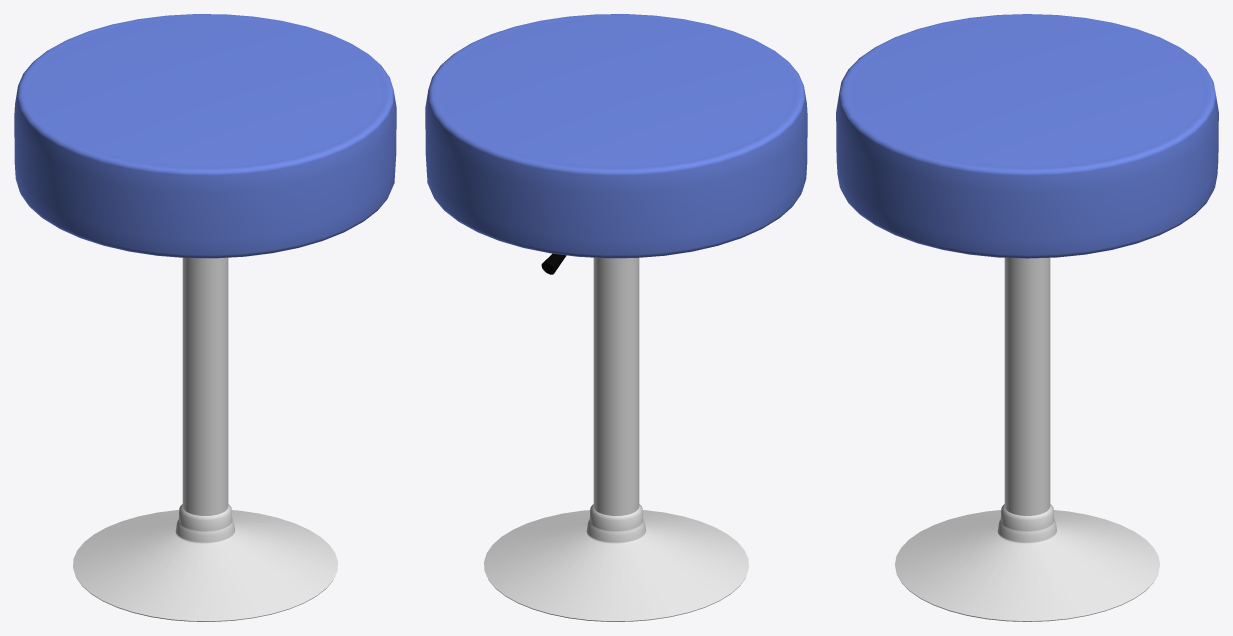
File: Stool03.fbx
3 views of the same model, side by side, from view 1: azimuth 30°, elevation 25°; view 2: azimuth 150°, elevation 25°; view 3: azimuth 270°, elevation 25° (orthographic).
Parts seen in each view (by area): view 1: Stool04; view 2: Stool04; view 3: Stool04.
Boxes of the visible parts, bbox=[...] form: Stool04: bbox=[14, 14, 396, 621]; Stool04: bbox=[425, 14, 807, 621]; Stool04: bbox=[836, 14, 1218, 621].
Size of the model in its own units: 2.15 by 2.15 by 2.97.
